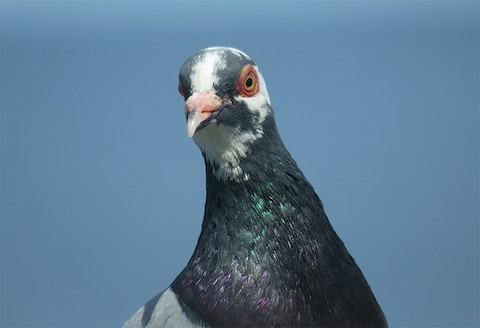pigeon: (113, 42, 397, 319)
